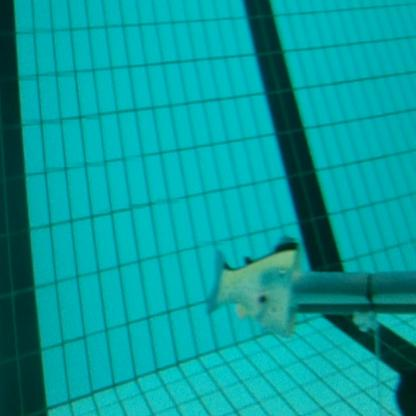tail: (206, 231, 307, 342)
